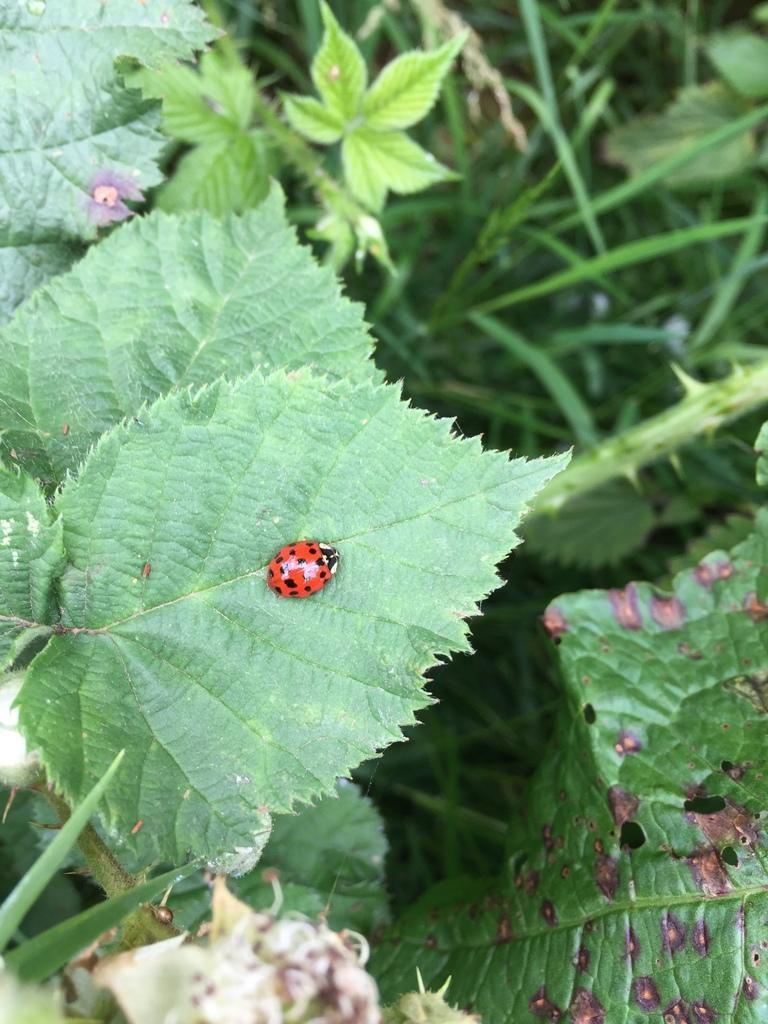ladybug: (266, 536, 349, 604)
